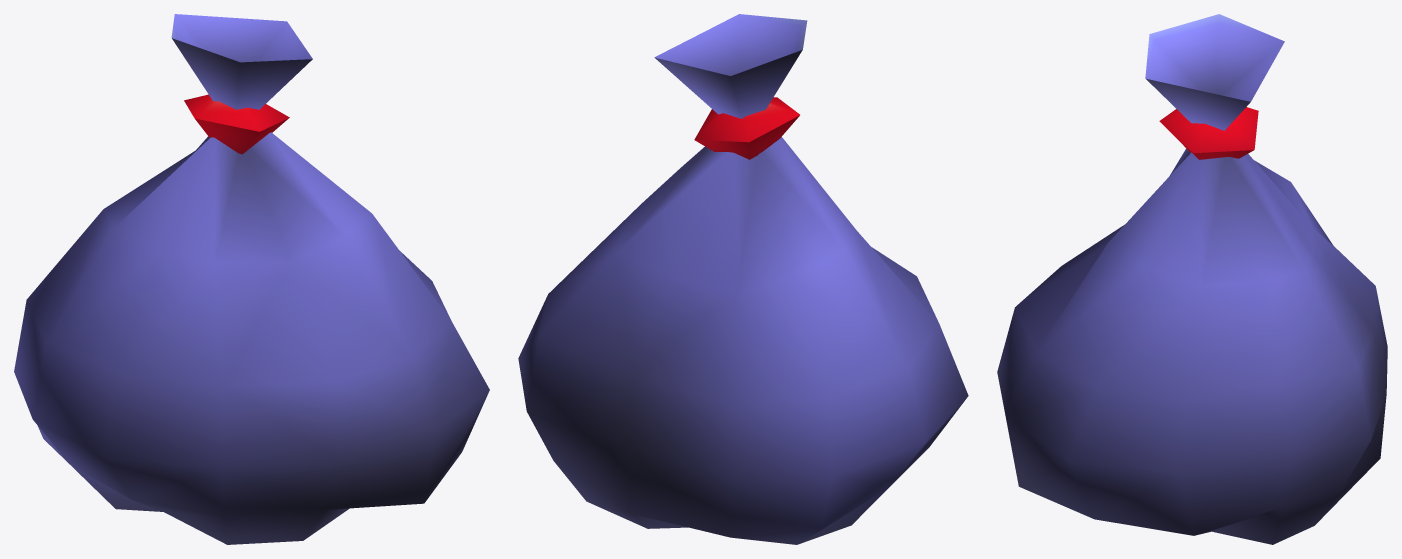
Rendered from Trash_Bag_6A.fbx.
3 views of the same model, side by side, from view 1: azimuth 30°, elevation 25°; view 2: azimuth 150°, elevation 25°; view 3: azimuth 270°, elevation 25° (orthographic). The views are drawn at different scales.
Visible parts, largest first — view 1: Trash_Bag_6A; view 2: Trash_Bag_6A; view 3: Trash_Bag_6A.
Boxes of the visible parts, box(x1,y1,x2,y2) form: Trash_Bag_6A: box(14, 14, 489, 544); Trash_Bag_6A: box(518, 14, 968, 544); Trash_Bag_6A: box(997, 14, 1387, 544).
Size of the model in its own units: 115 by 134 by 103.
